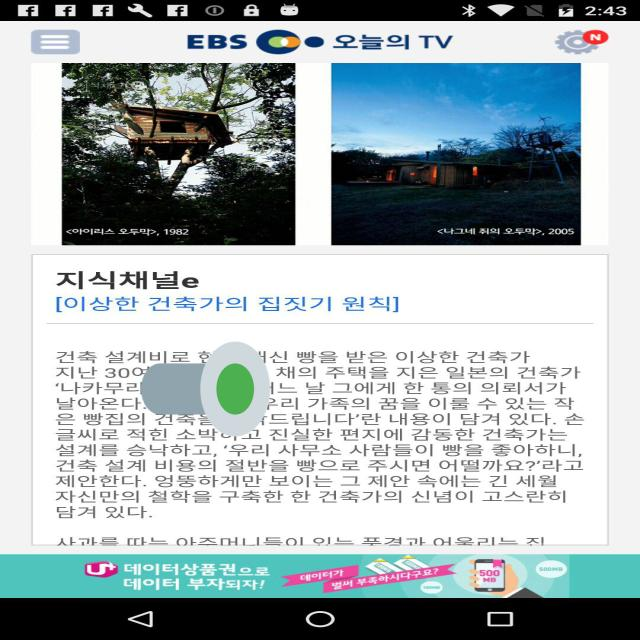social proof: (141, 301, 270, 477)
